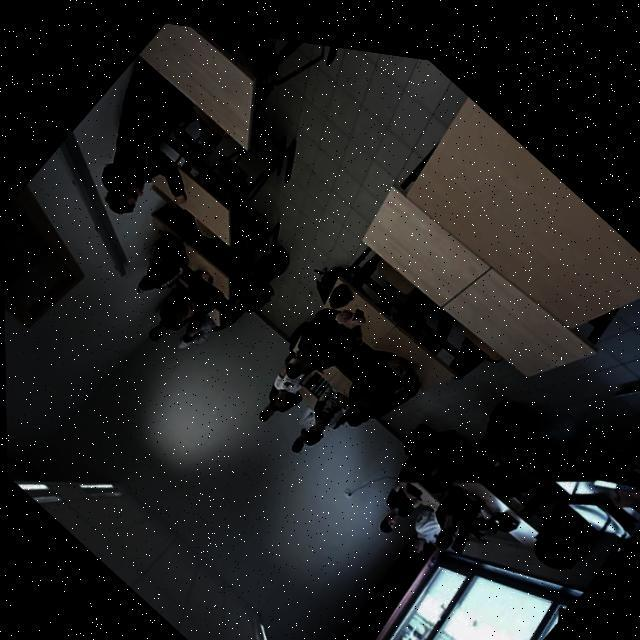phone_use: (414, 481, 536, 550), (335, 340, 419, 424), (291, 365, 350, 450)
